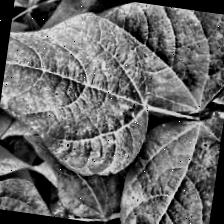Bean Rust: (0, 3, 162, 181), (78, 0, 224, 123), (120, 101, 224, 224), (16, 133, 129, 224)
